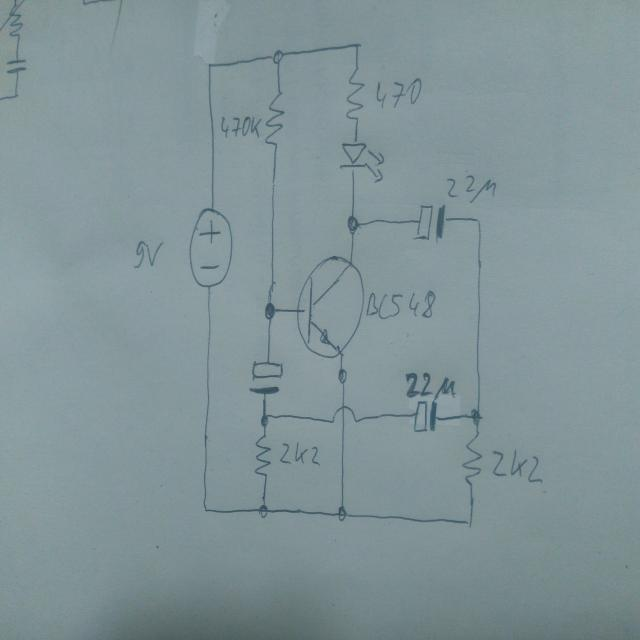capacitor: (246, 360, 283, 397), (415, 202, 447, 244), (411, 399, 439, 435)
crossover: (329, 403, 358, 427)
diode: (339, 140, 385, 184)
junction: (468, 407, 484, 427), (263, 302, 277, 323), (346, 215, 360, 235), (258, 413, 272, 431), (257, 502, 271, 520), (271, 48, 285, 65), (336, 367, 349, 385), (336, 505, 348, 523), (204, 60, 216, 74), (464, 516, 475, 530), (473, 214, 483, 229), (200, 503, 210, 516), (353, 41, 362, 54)
resistor: (263, 90, 287, 152), (461, 430, 484, 491), (344, 64, 366, 124), (253, 430, 272, 482)
source: (187, 207, 234, 290)
text: (366, 290, 436, 319), (491, 449, 544, 485), (373, 76, 424, 110), (445, 172, 498, 204), (404, 371, 457, 398), (218, 112, 262, 142), (130, 238, 166, 270), (279, 442, 321, 468)
transistor: (294, 253, 367, 361)
